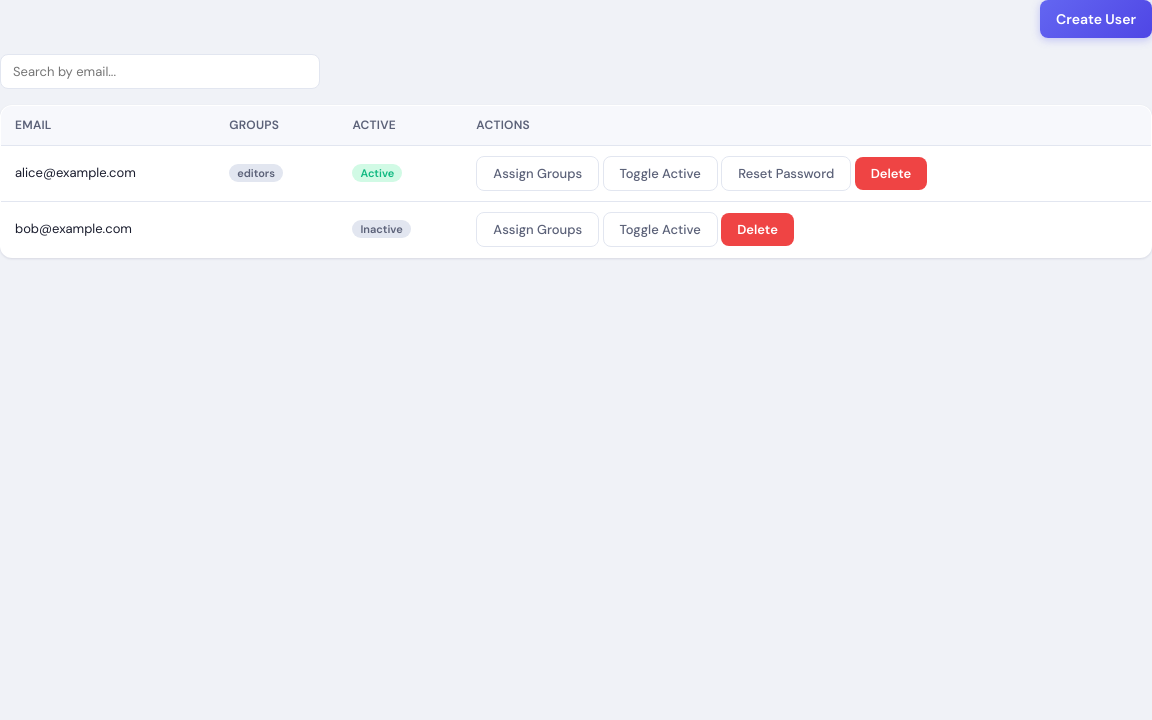
Test: UsersTab › delete error shows toast and row stays in list
The width and height of the screenshot is (1152, 720).
Check: the text "alice@example.com" is shown, box [0, 146, 215, 202]
Click the button "Delete" in the row of "alice@example.com" at point(891, 174), box [855, 157, 927, 190]
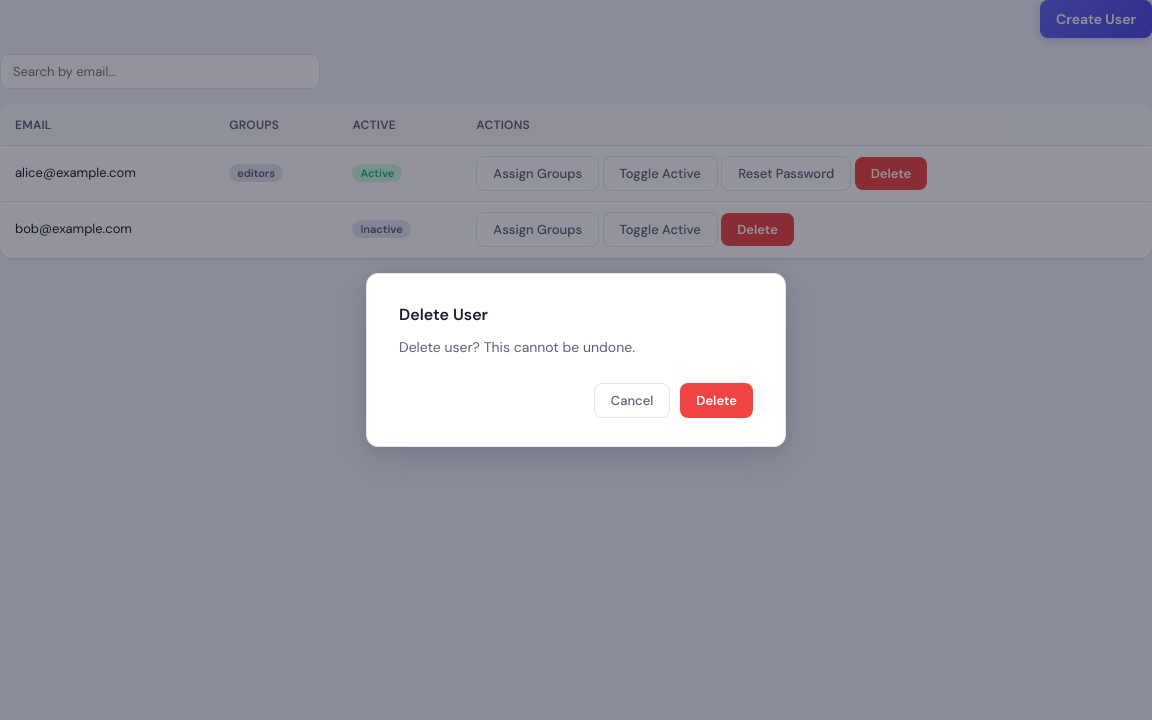
Check: the element with class "confirm-dialog" is shown, box [366, 273, 786, 447]
Click the button with class "btn-danger" showing "Delete" at point(717, 401), box [680, 383, 753, 418]
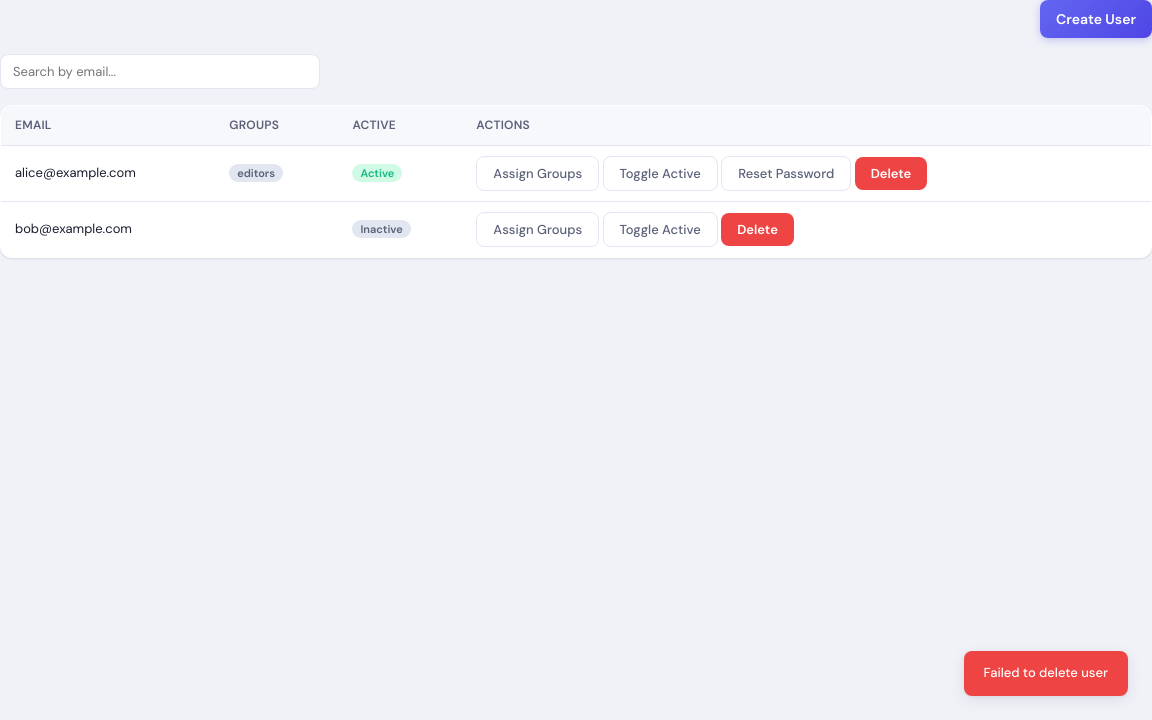
Check: the text "alice@example.com" is shown, box [0, 146, 215, 202]
Check: the text "Failed to delete user" is shown, box [964, 651, 1128, 696]
